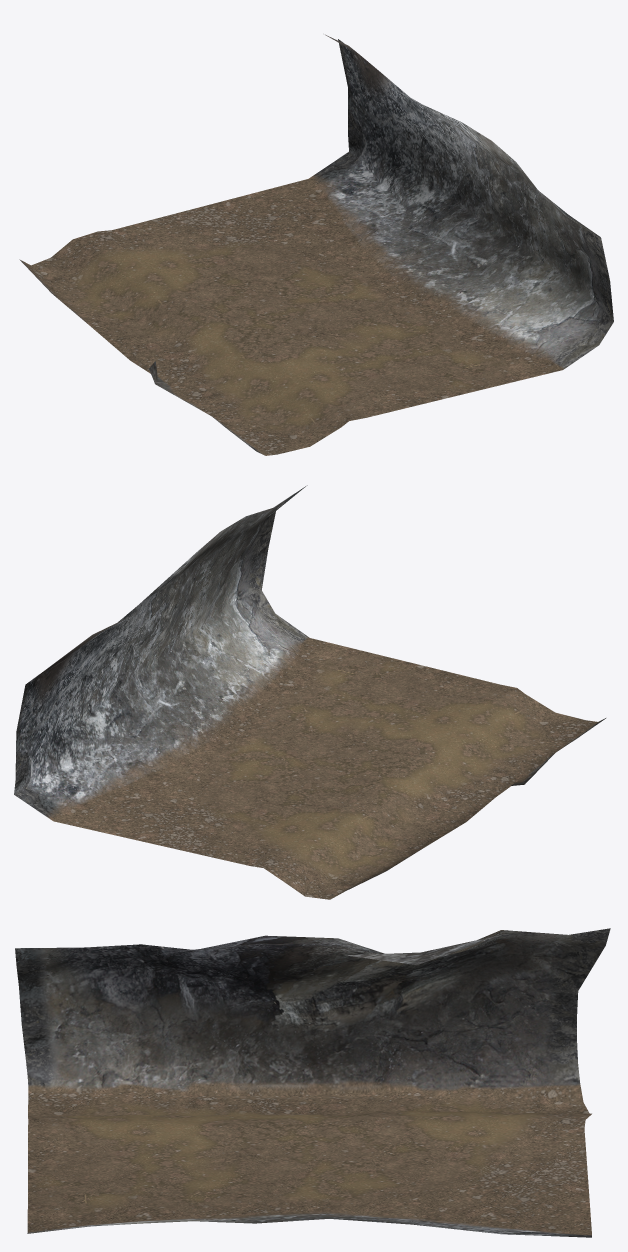
Rendered from TunnelA3.glb.
The picture shows the model from 3 angles, top to bottom: view 1: azimuth 30°, elevation 25°; view 2: azimuth 150°, elevation 25°; view 3: azimuth 270°, elevation 25°; orthographic projection. The views are drawn at different scales.
Parts seen in each view (by area): view 1: TunnelA3; view 2: TunnelA3; view 3: TunnelA3.
Boxes of the visible parts, <box> form: TunnelA3: <box>19,34,613,455</box>; TunnelA3: <box>14,485,605,899</box>; TunnelA3: <box>15,928,610,1237</box>.
Size of the model in its own units: 4.31 by 2.14 by 5.52.
Materials: 1 (1 with a texture image).
